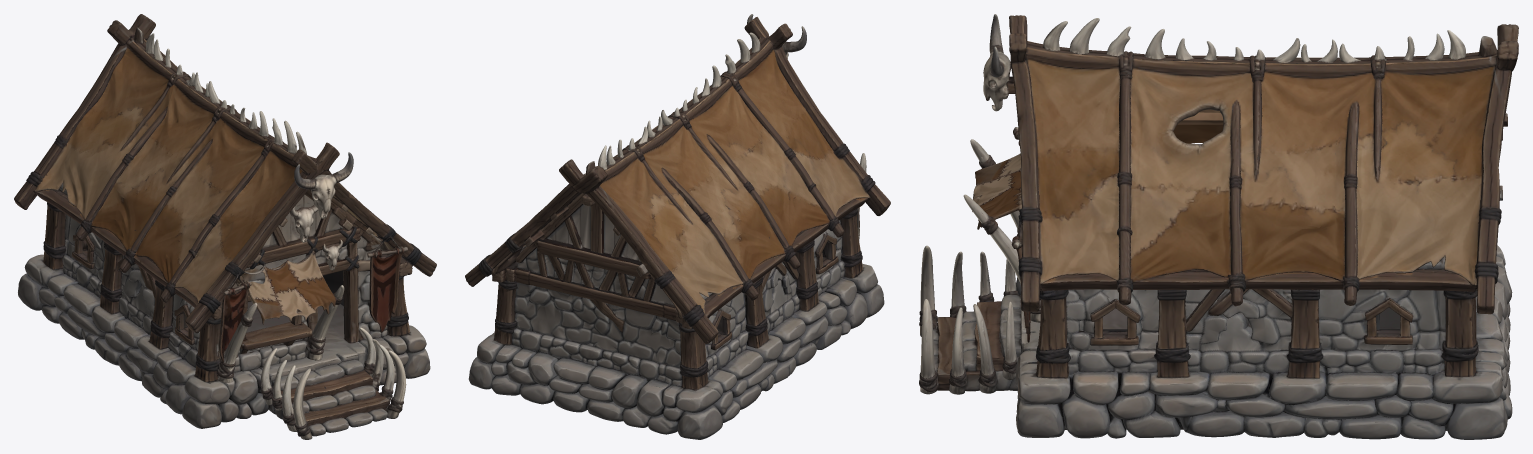
Rendered from TrollTradingPost_300k.glb.
3 views of the same model, side by side, from view 1: azimuth 30°, elevation 25°; view 2: azimuth 150°, elevation 25°; view 3: azimuth 270°, elevation 25° (orthographic). The views are drawn at different scales.
Parts seen in each view (by area): view 1: Mesh_0; view 2: Mesh_0; view 3: Mesh_0.
Part boxes in pixels (bbox=[...]): Mesh_0: bbox=[14, 14, 436, 439]; Mesh_0: bbox=[465, 14, 890, 439]; Mesh_0: bbox=[919, 14, 1518, 439].
Bounding box in the file's own units: 1.21 × 1.21 × 1.9.
1 material, 1 textured.
